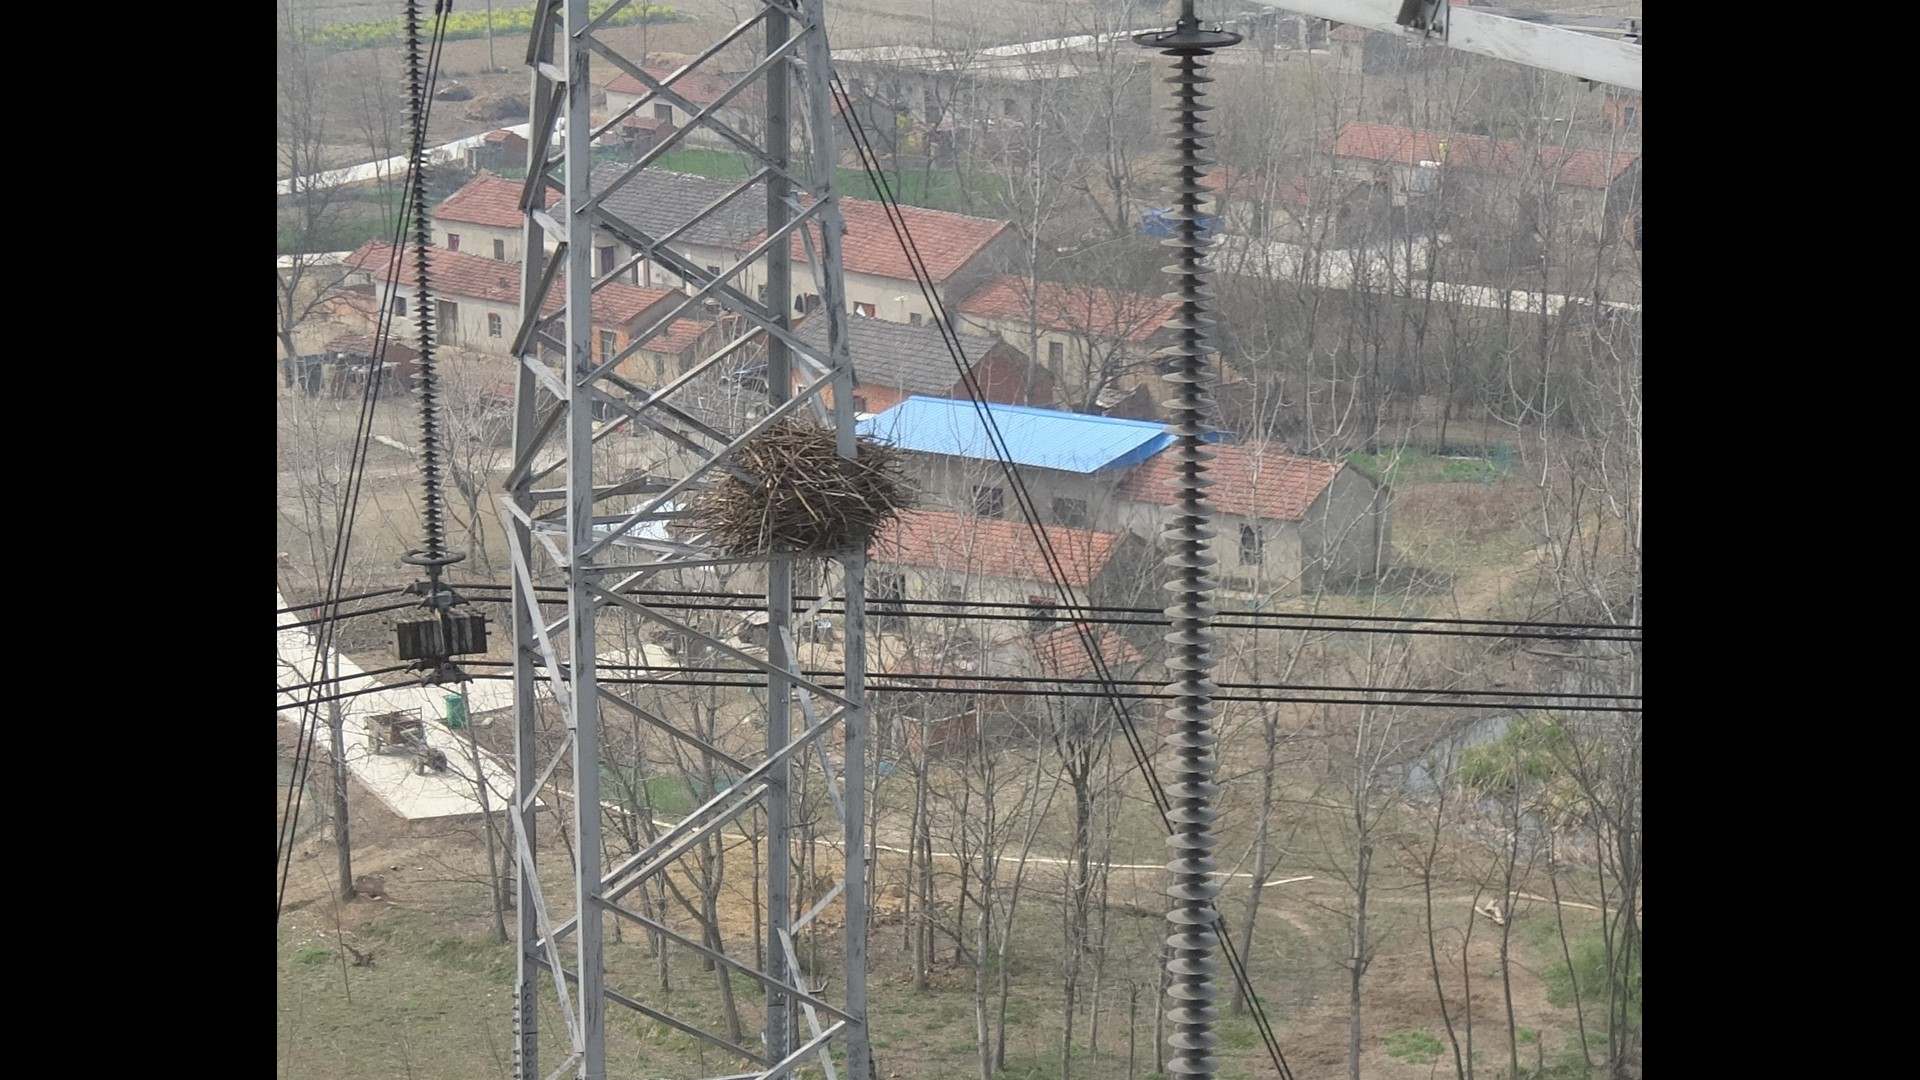niaowo: (688, 398, 919, 579)
